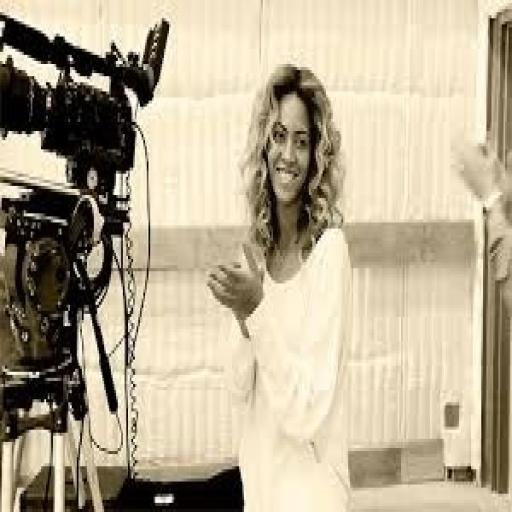clapping: (205, 61, 355, 509)
